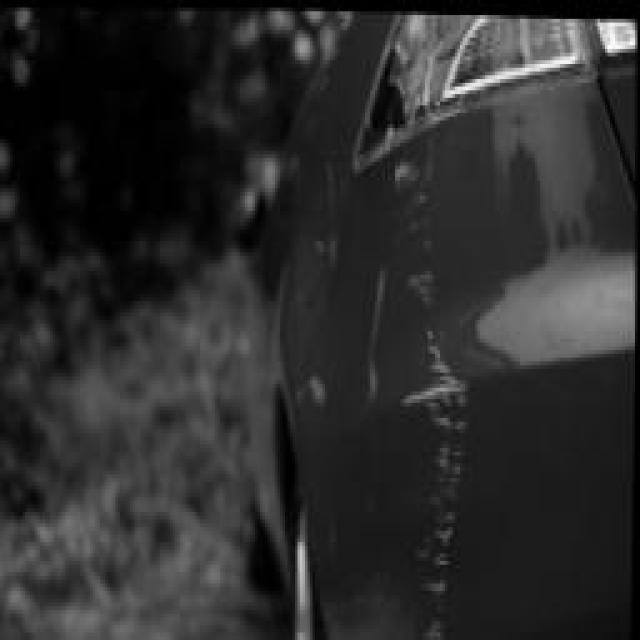Bumper: (358, 124, 549, 640)
